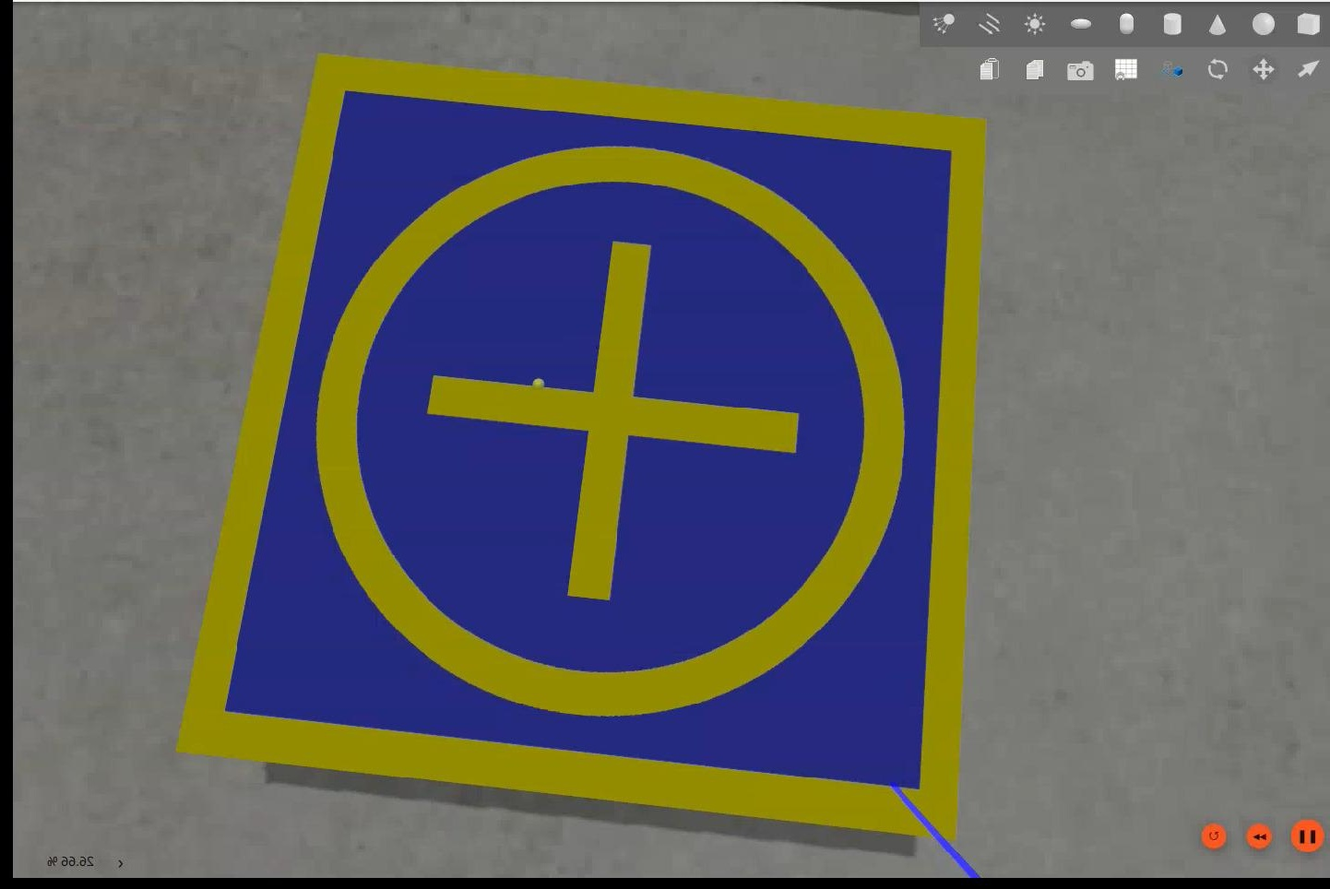small_base: (168, 58, 985, 849)
